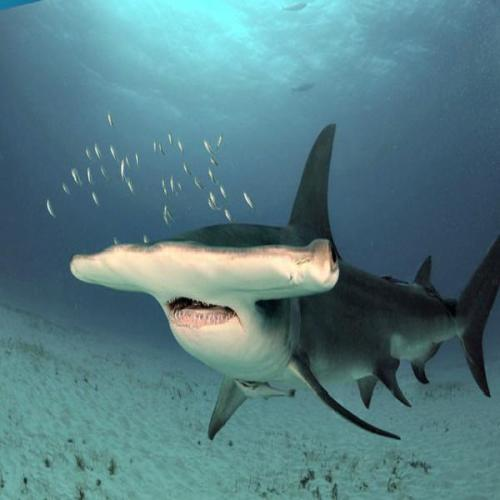shark-endangered: (68, 122, 500, 442)
